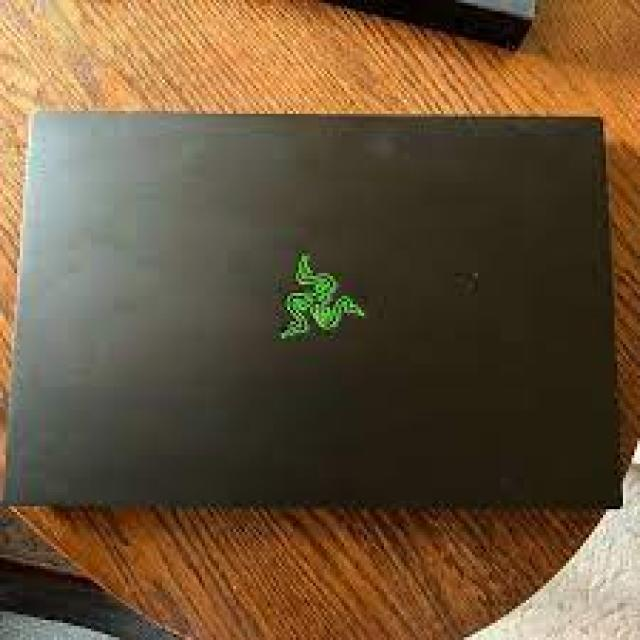laptop: (0, 108, 626, 512)
